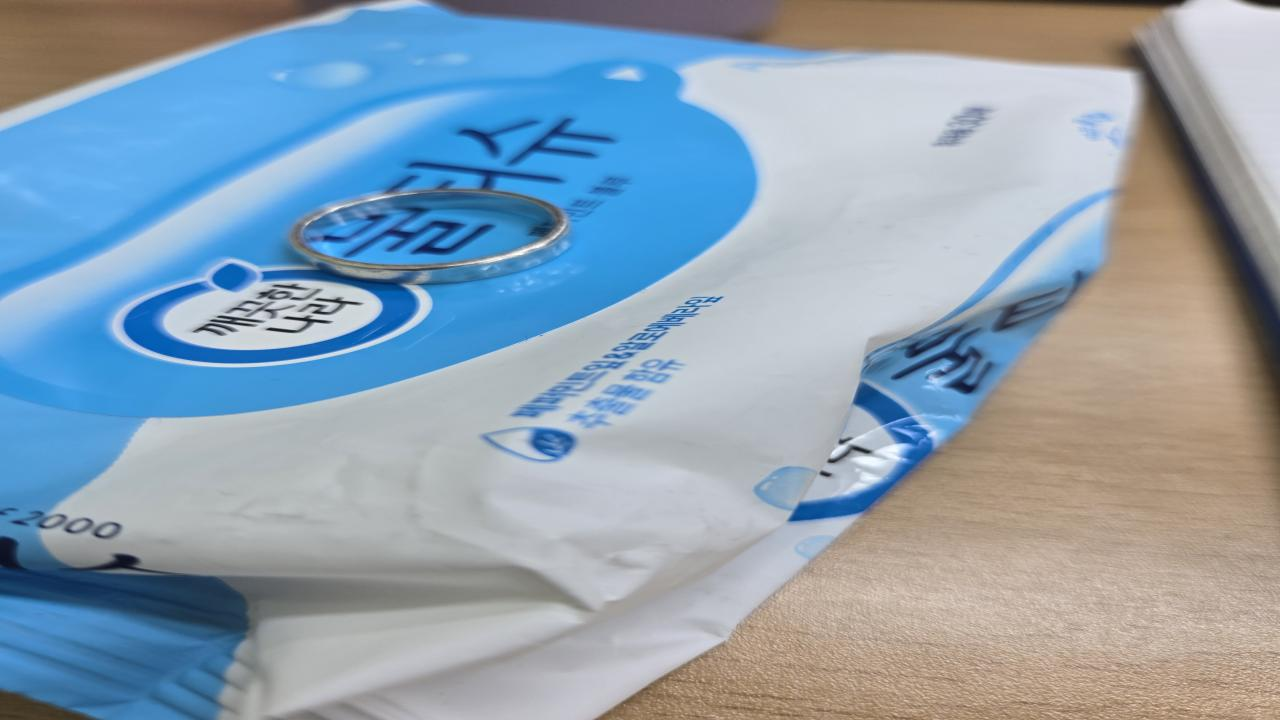ring: (289, 187, 573, 288)
